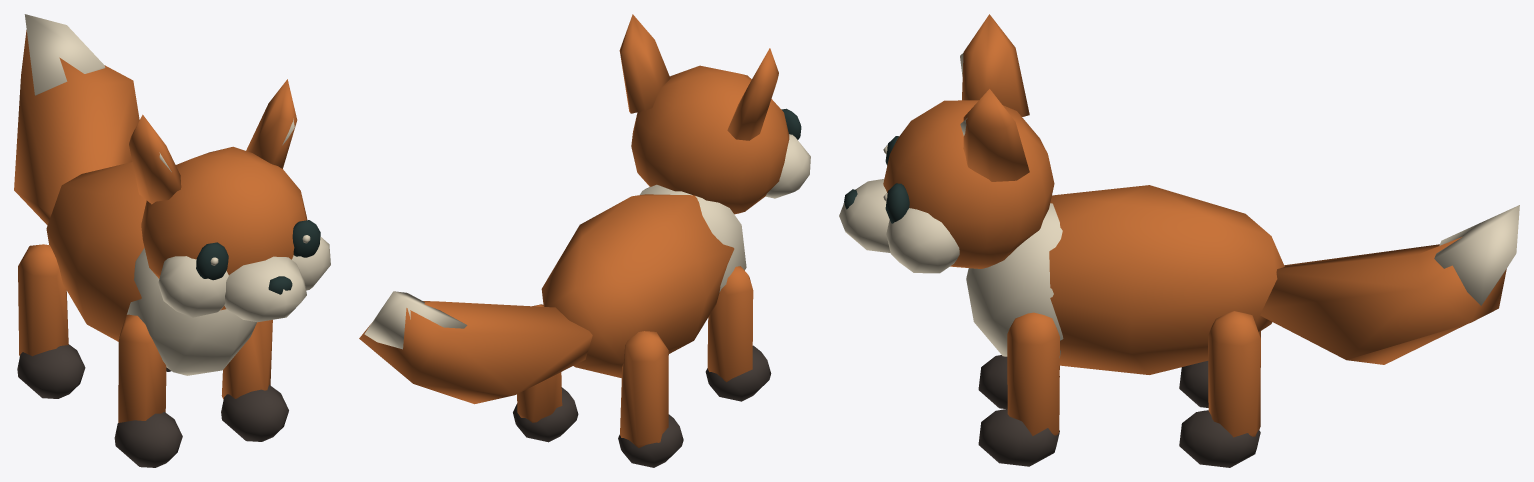
File: org_redfox.glb
3 renders of one model, left to right at view 1: azimuth 30°, elevation 25°; view 2: azimuth 150°, elevation 25°; view 3: azimuth 270°, elevation 25°, orthographic. The views are drawn at different scales.
Visible parts, largest first — view 1: Head, Body, Tail, Leg_BR, Leg_FR, Leg_FL, Eye_R, Eye_L; view 2: Body, Head, Tail, Leg_BR, Leg_FR, Leg_BL; view 3: Body, Head, Tail, Leg_BL, Leg_FL, Leg_FR, Leg_BR, Eye_L.
Part boxes in pixels (x1=…): Head: x1=129, y1=79, x2=330, y2=322; Body: x1=46, y1=162, x2=256, y2=375; Tail: x1=14, y1=14, x2=139, y2=225; Leg_BR: x1=17, y1=244, x2=85, y2=398; Leg_FR: x1=114, y1=314, x2=182, y2=467; Leg_FL: x1=221, y1=320, x2=288, y2=441; Eye_R: x1=196, y1=242, x2=228, y2=280; Eye_L: x1=292, y1=220, x2=320, y2=257; Body: x1=541, y1=184, x2=746, y2=377; Head: x1=619, y1=14, x2=810, y2=214; Tail: x1=359, y1=291, x2=592, y2=404; Leg_BR: x1=618, y1=331, x2=683, y2=467; Leg_FR: x1=705, y1=266, x2=771, y2=401; Leg_BL: x1=513, y1=304, x2=578, y2=442; Body: x1=966, y1=185, x2=1284, y2=374; Head: x1=839, y1=14, x2=1054, y2=273; Tail: x1=1260, y1=205, x2=1519, y2=364; Leg_BL: x1=1179, y1=311, x2=1260, y2=467; Leg_FL: x1=978, y1=312, x2=1059, y2=466; Leg_FR: x1=978, y1=355, x2=1059, y2=408; Leg_BR: x1=1179, y1=331, x2=1260, y2=407; Eye_L: x1=883, y1=183, x2=909, y2=223.
Size of the model in its own units: 0.4413 by 0.6996 by 1.13.
